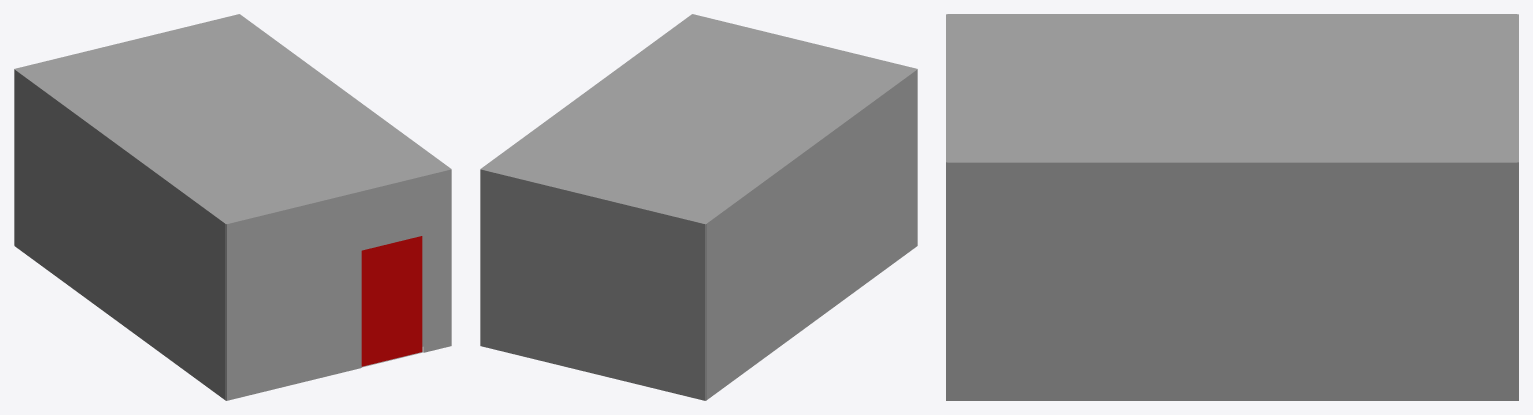
The model's file is BgMD_yoshinuma_LockerhRoom0201.fbx.
3 renders of one model, left to right at view 1: azimuth 30°, elevation 25°; view 2: azimuth 150°, elevation 25°; view 3: azimuth 270°, elevation 25°, orthographic. The views are drawn at different scales.
Visible parts, largest first — view 1: room1, door007; view 2: room1; view 3: room1.
Part boxes in pixels (x1=…): room1: x1=14, y1=14, x2=451, y2=400; door007: x1=361, y1=236, x2=422, y2=366; room1: x1=480, y1=14, x2=917, y2=400; room1: x1=946, y1=14, x2=1518, y2=400.
Bounding box in the file's own units: 401 × 301 × 653.
